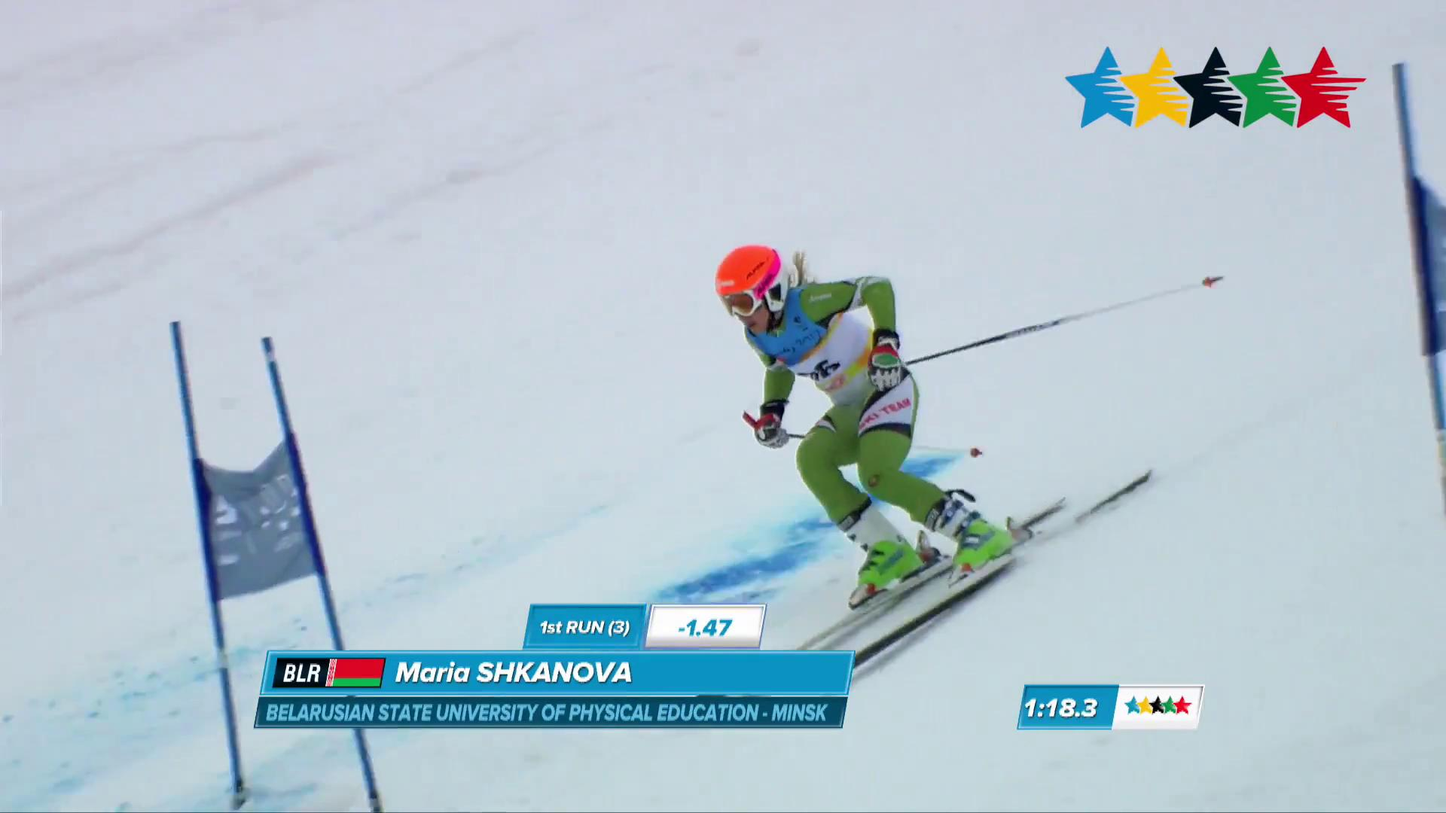gate: (170, 321, 249, 812), (262, 336, 345, 649), (353, 729, 381, 812)
